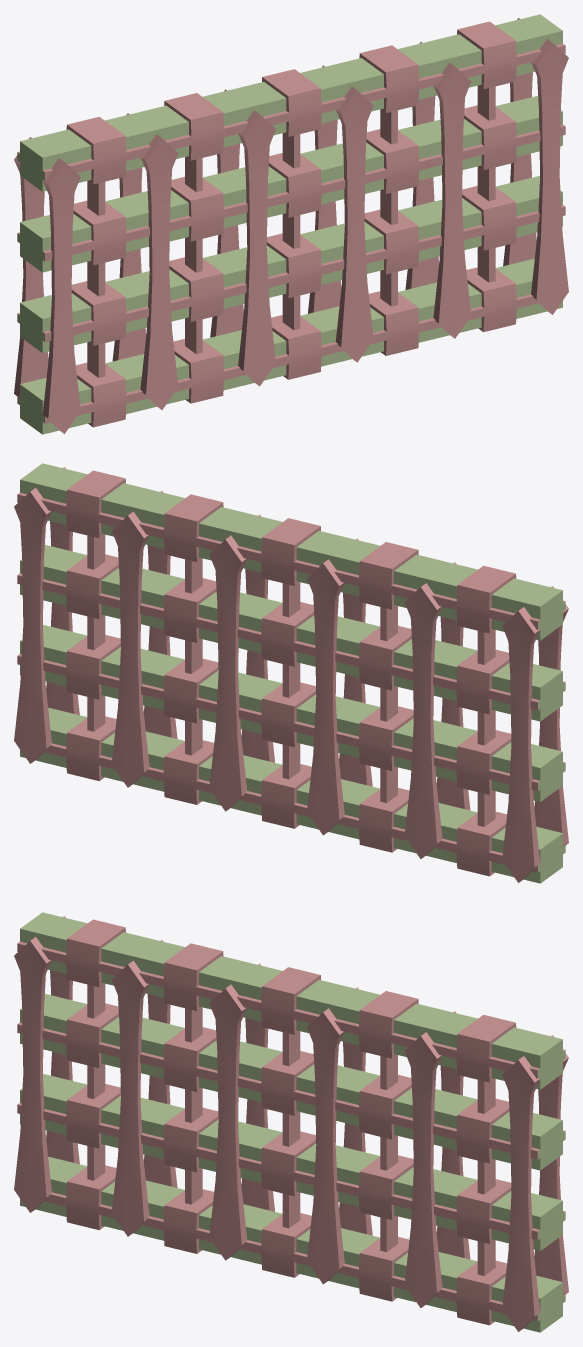
The model's file is Door.FBX.
3 renders of one model, top to bottom at view 1: azimuth 30°, elevation 25°; view 2: azimuth 150°, elevation 25°; view 3: azimuth 330°, elevation 25°, orthographic.
Visible parts, largest first — view 1: Box001; view 2: Box001; view 3: Box001.
Boxes of the visible parts, x1,y1,x2,y2 form: Box001: (14,14,568,434); Box001: (14,463,568,883); Box001: (14,912,568,1332).
Bounding box in the file's own units: 315 × 164 × 35.97.
